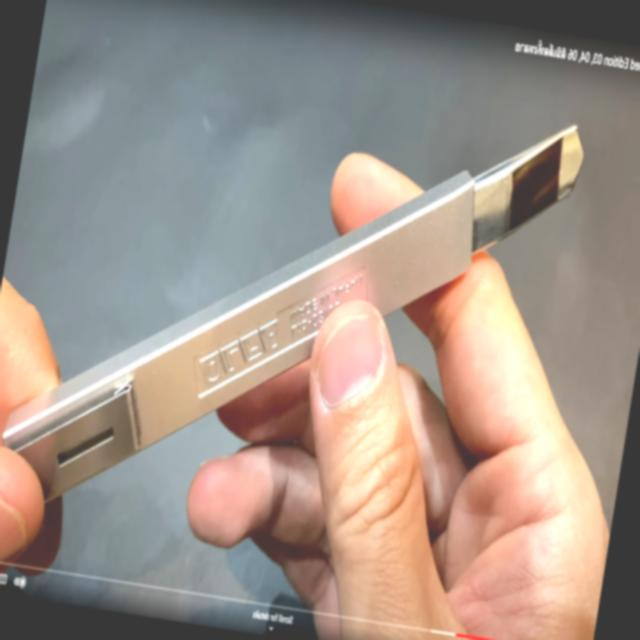cutter: (0, 92, 627, 640)
